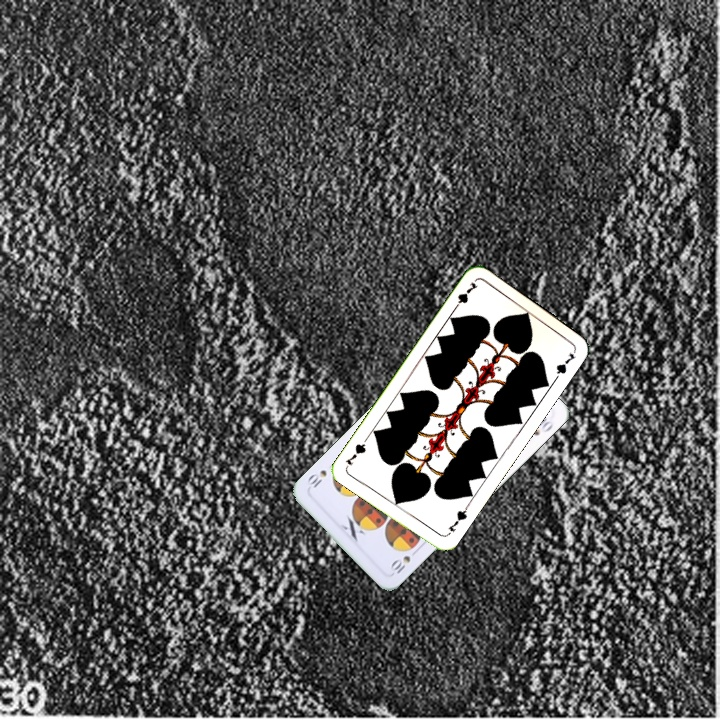G7: (449, 278, 480, 313), (443, 502, 470, 538)
S10: (386, 545, 421, 578)
